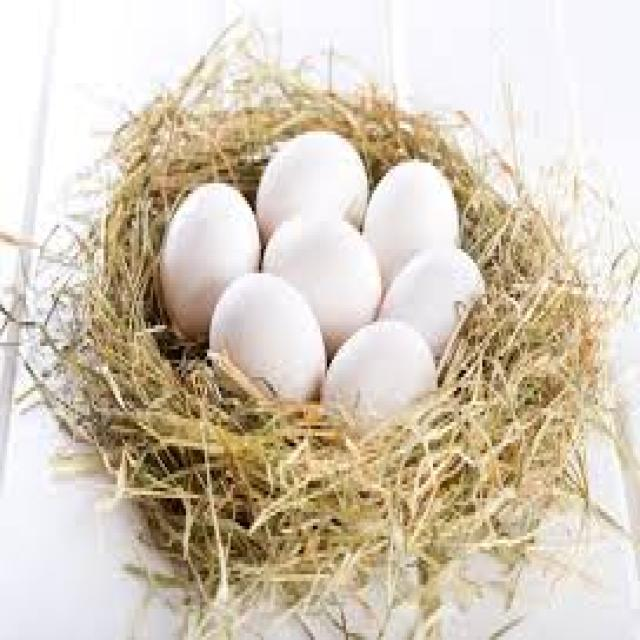White Egg: (161, 174, 263, 349), (210, 273, 328, 411), (256, 212, 382, 334), (366, 144, 459, 288), (319, 315, 436, 425), (252, 129, 366, 232), (377, 245, 487, 346)
